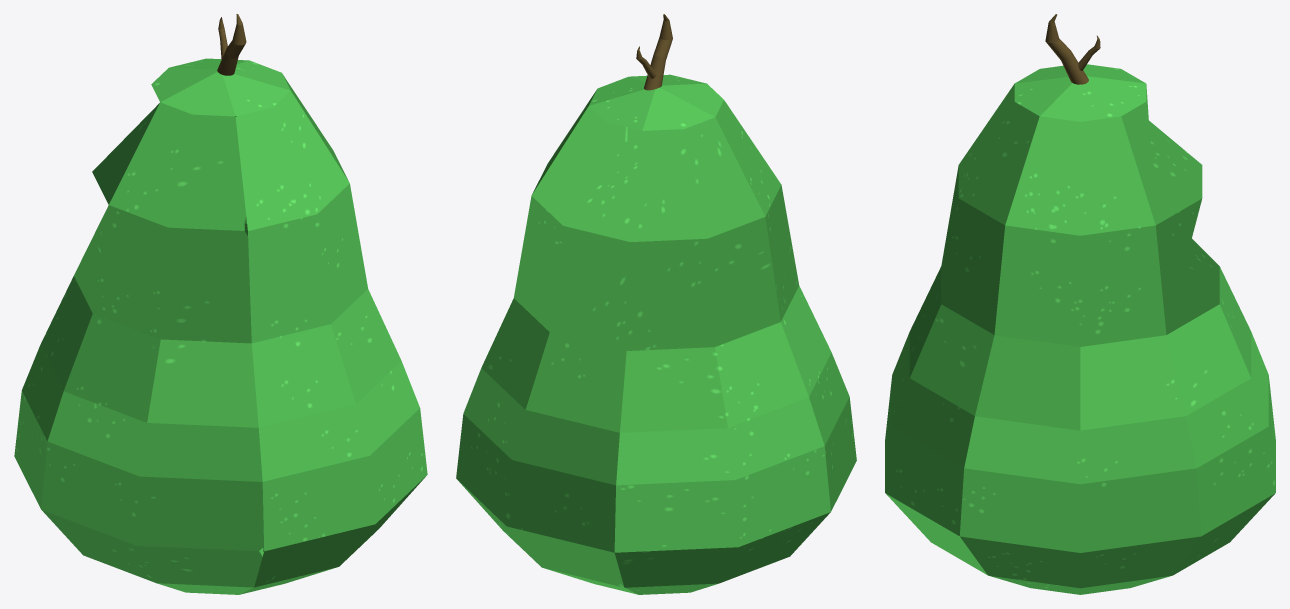
Rendered from peer.fbx.
3 renders of one model, left to right at view 1: azimuth 30°, elevation 25°; view 2: azimuth 150°, elevation 25°; view 3: azimuth 270°, elevation 25°, orthographic. The views are drawn at different scales.
Visible parts, largest first — view 1: peer1; view 2: peer1; view 3: peer1.
Boxes of the visible parts, <box> form: peer1: <box>14,14,427,594</box>; peer1: <box>456,14,856,594</box>; peer1: <box>885,14,1275,594</box>.
Size of the model in its own units: 280 by 417 by 266.
